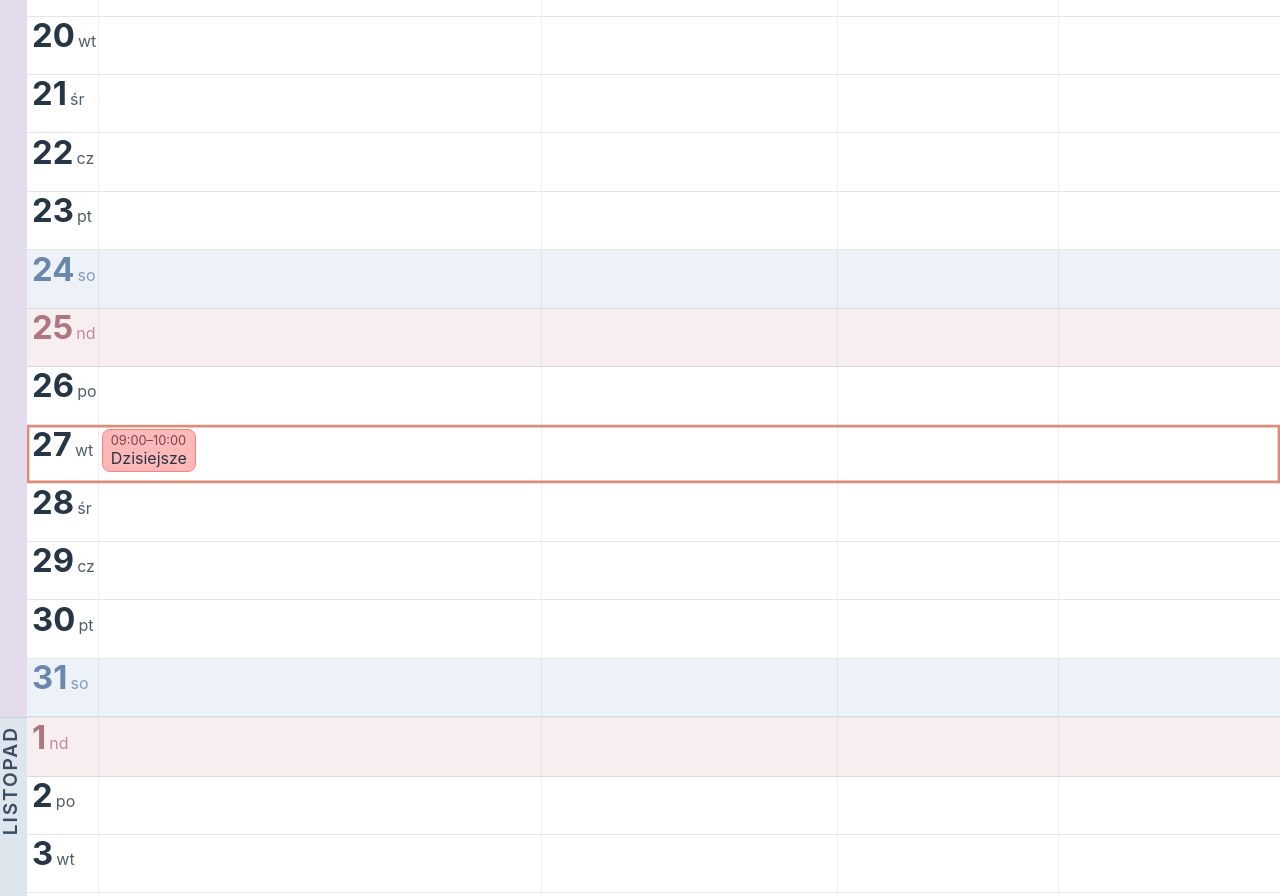
Test: CalendarView › adding and editing events › a recurring event › says that an edit changes only this occurrence
This screenshot has width=1280, height=896.
(page scrolled)
Expected: the text "Dzisiejsze" is shown, [111,448,187,468]
Click the button "09:00–10:00 Dzisiejsze": (149, 450) [102,428,196,472]
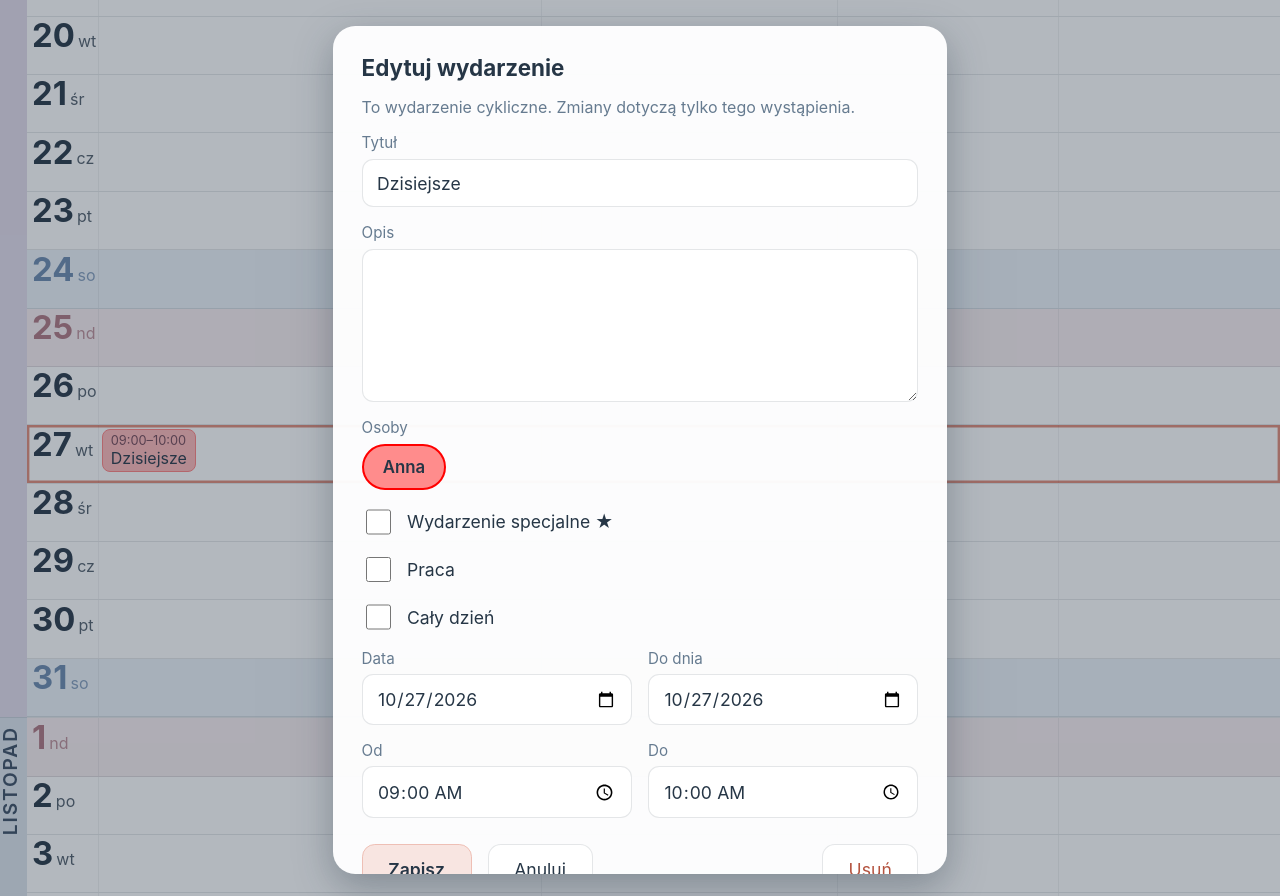
Now the text "To wydarzenie cykliczne. Zmiany dotyczą tylko tego wystąpienia." is shown, box [362,97,918,117]
